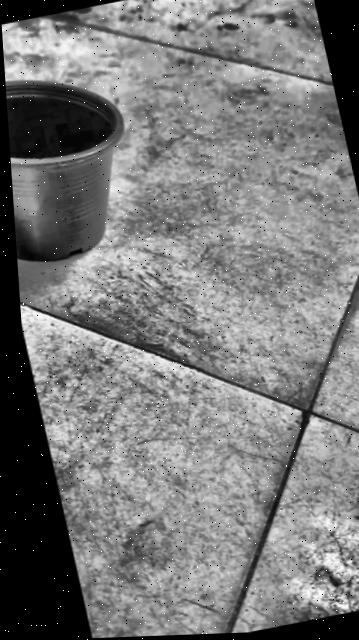pot: (4, 58, 151, 269)
